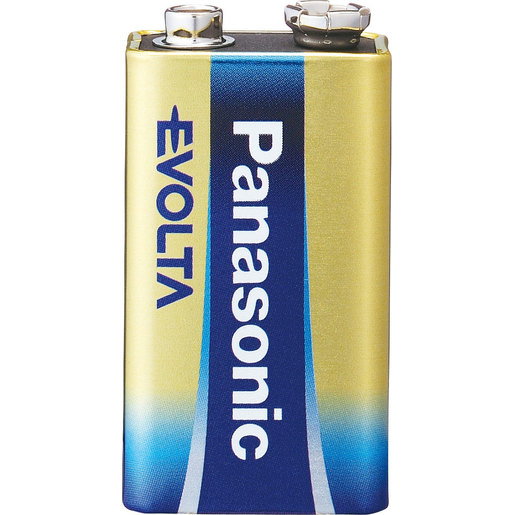9V: (104, 5, 410, 510)
